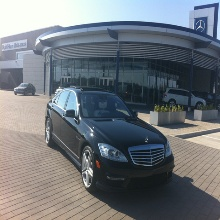no damage: (43, 86, 176, 193), (13, 82, 36, 96)
